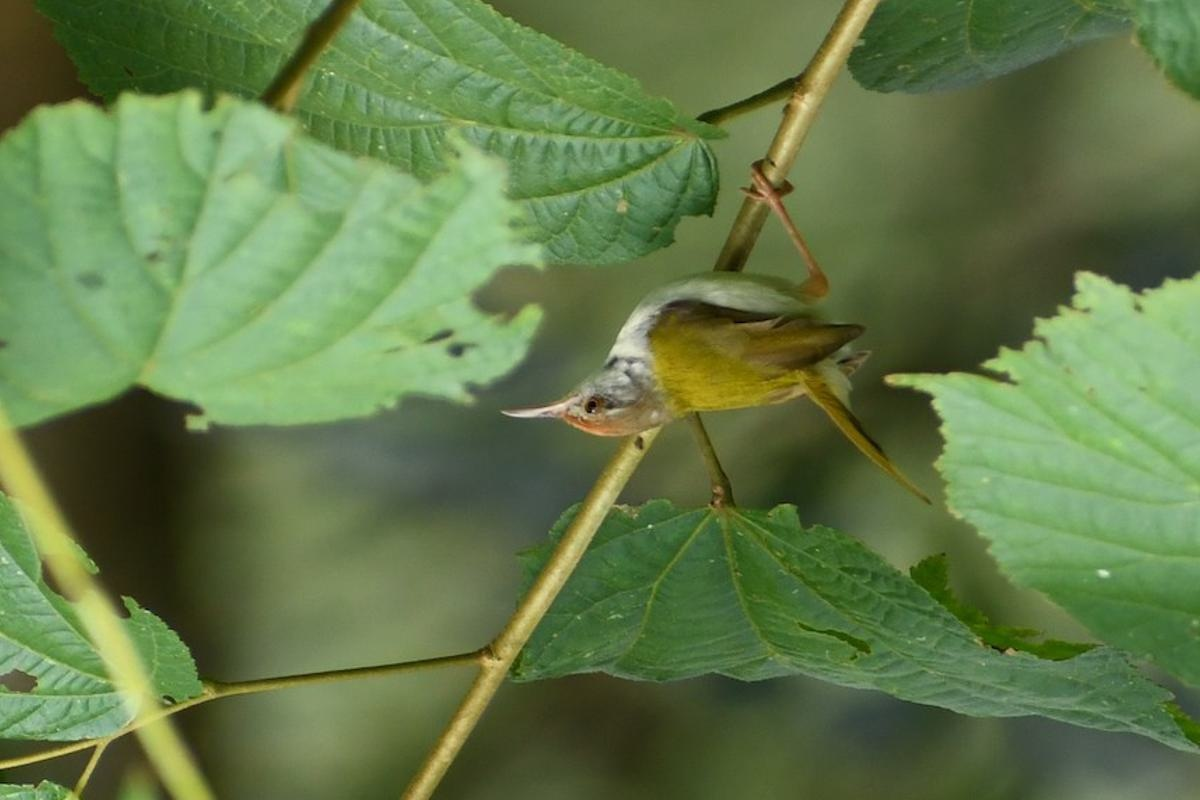tailorbird: (478, 144, 985, 521)
